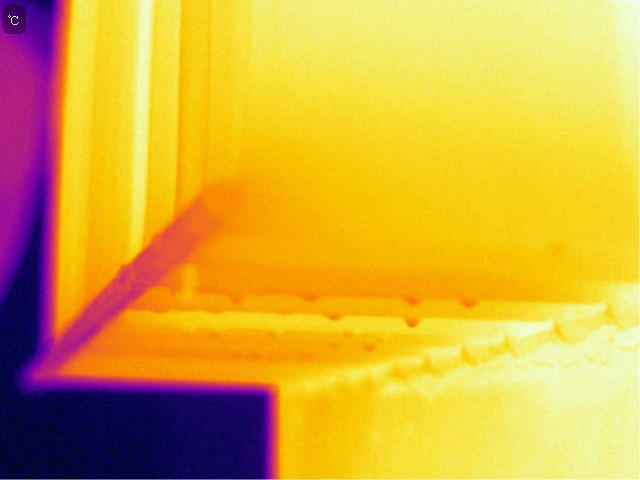Oil: (174, 278, 195, 302), (294, 291, 327, 304), (323, 311, 351, 326), (403, 313, 424, 331), (228, 288, 245, 305), (456, 298, 480, 310), (404, 293, 422, 307), (361, 342, 385, 352)
